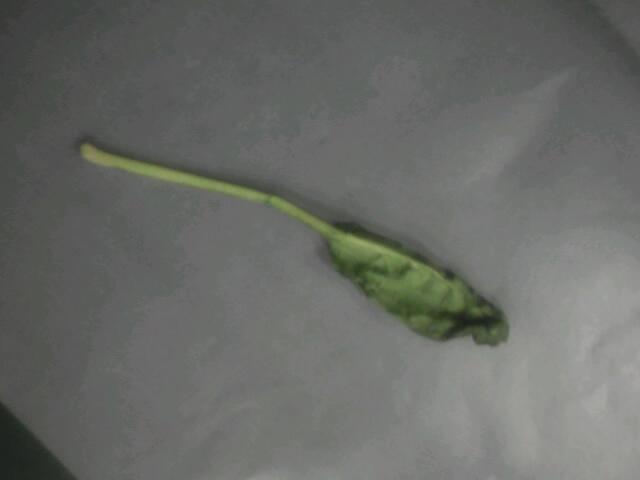yellow: (256, 191, 523, 362)
